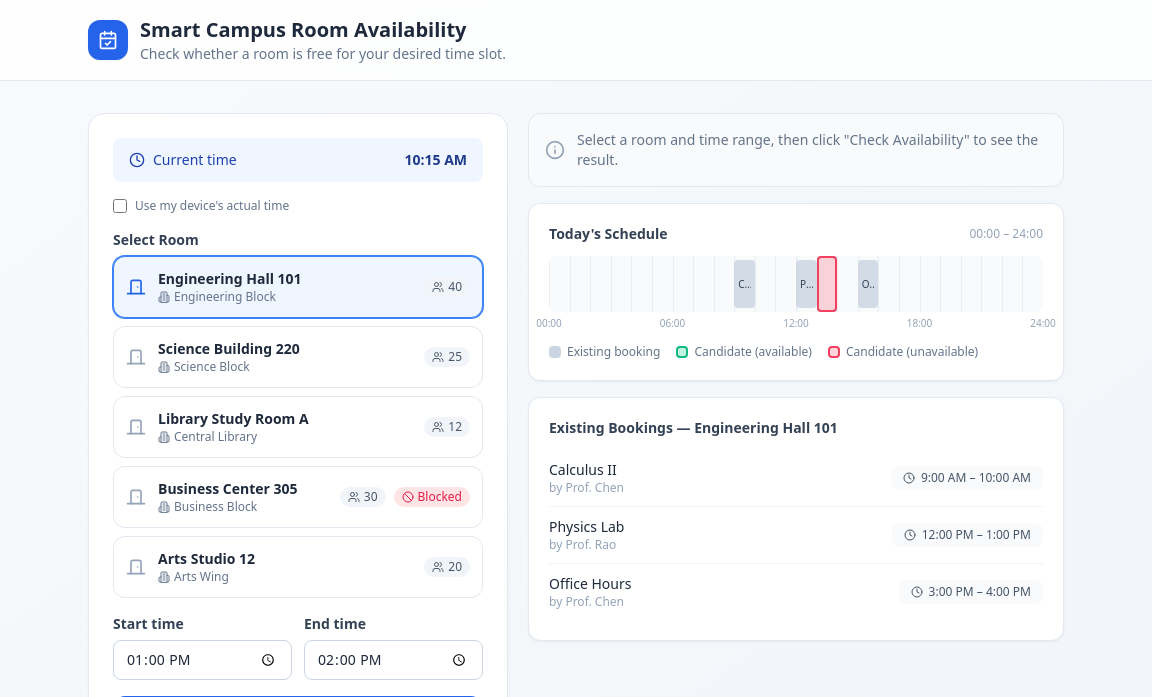
Test case: App — R2: live clock updates current time display › updates the displayed time away from 10:15 AM after enabling live mode
This screenshot has width=1152, height=697.
Expected: the text "10:15 AM" is shown, top-left (404, 150), bottom-right (467, 170)
Click the checkbox labelled "Use my device's actual time".
click(120, 206)  # box top-left (113, 199), bottom-right (127, 213)
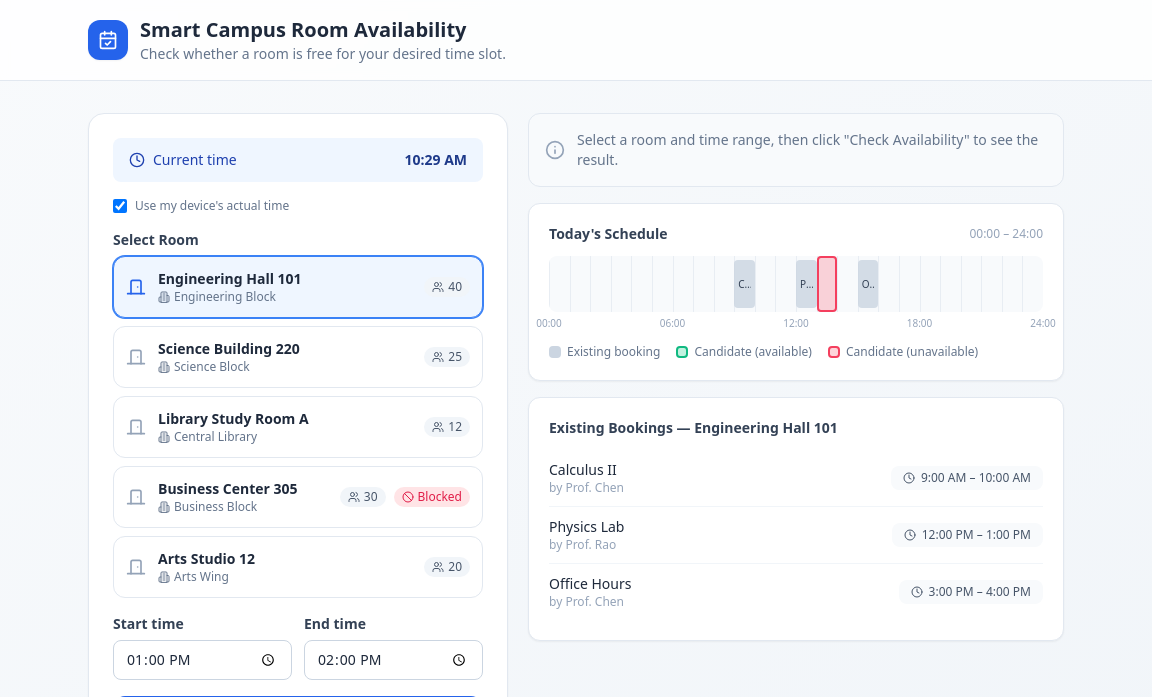
Expected: the text "10:15 AM" is gone
